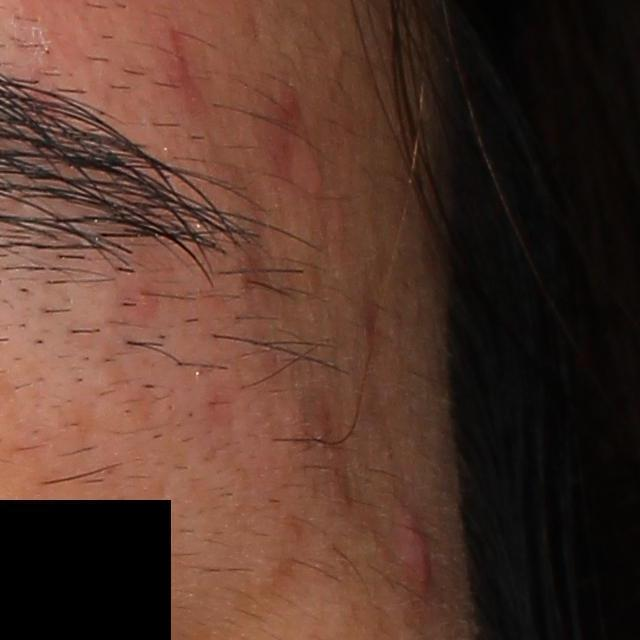papule: (397, 502, 436, 599), (277, 80, 303, 116), (306, 161, 326, 196)
